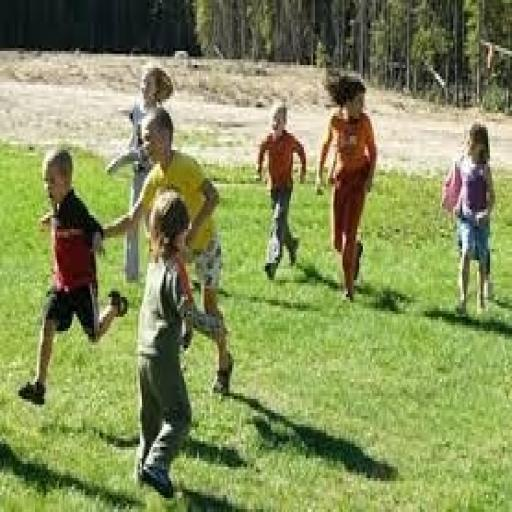running: (131, 186, 232, 500), (16, 144, 130, 408), (313, 70, 379, 306), (440, 118, 499, 320), (252, 99, 310, 283)
